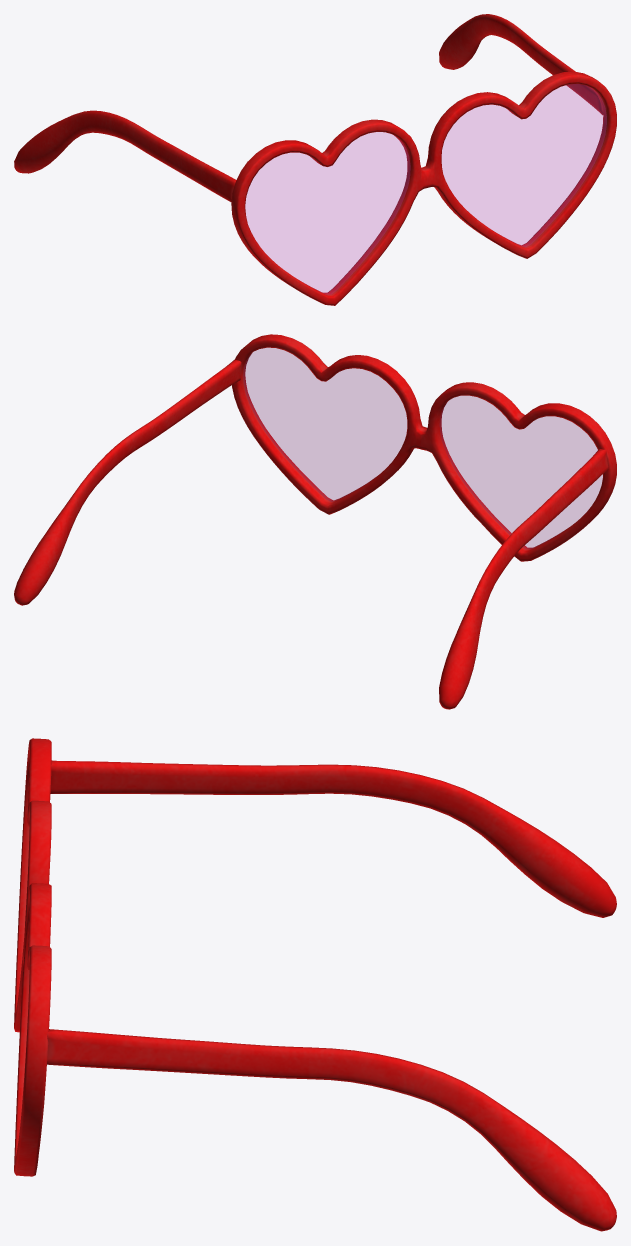
File: glasses_harajuku.glb
3 views of the same model, one above another, from view 1: azimuth 30°, elevation 25°; view 2: azimuth 150°, elevation 25°; view 3: azimuth 270°, elevation 25° (orthographic). The views are drawn at different scales.
Visible parts, largest first — view 1: Sketchfab_model; view 2: Sketchfab_model; view 3: Sketchfab_model.
Part boxes in pixels (box(x1,y1,x2,y2)): Sketchfab_model: box(14, 14, 616, 305); Sketchfab_model: box(14, 334, 616, 709); Sketchfab_model: box(14, 738, 616, 1231).
Bounding box in the file's own units: 4.36 × 1.58 × 3.4.
2 materials, 1 textured.
